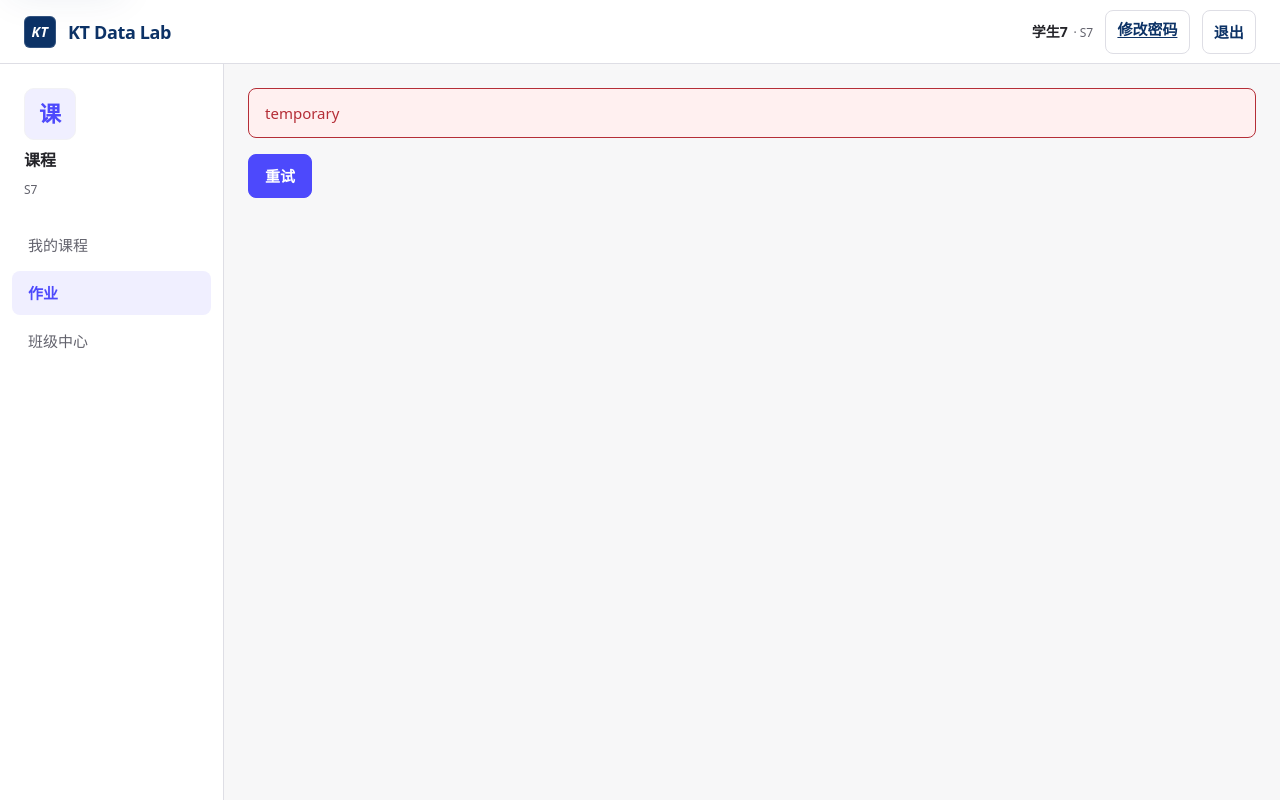
Test: student course shared loading › allows retry after failure and explicit refresh without retaining actions
Click the button "重试" at [280, 176], box x1=248 y1=154 x2=312 y2=198
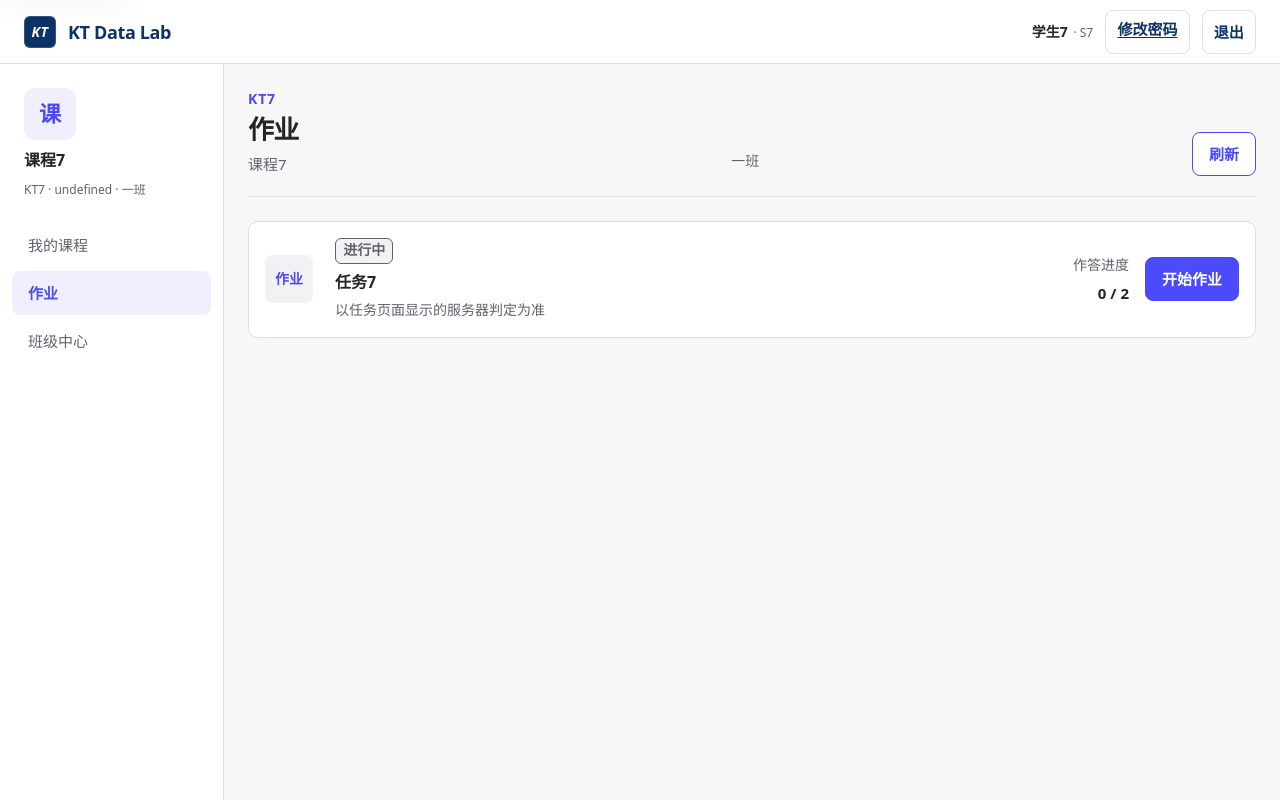
Now the text "任务7" is shown, box x1=335 y1=270 x2=376 y2=292
Click the button "刷新" at [1224, 154], box x1=1192 y1=132 x2=1256 y2=176
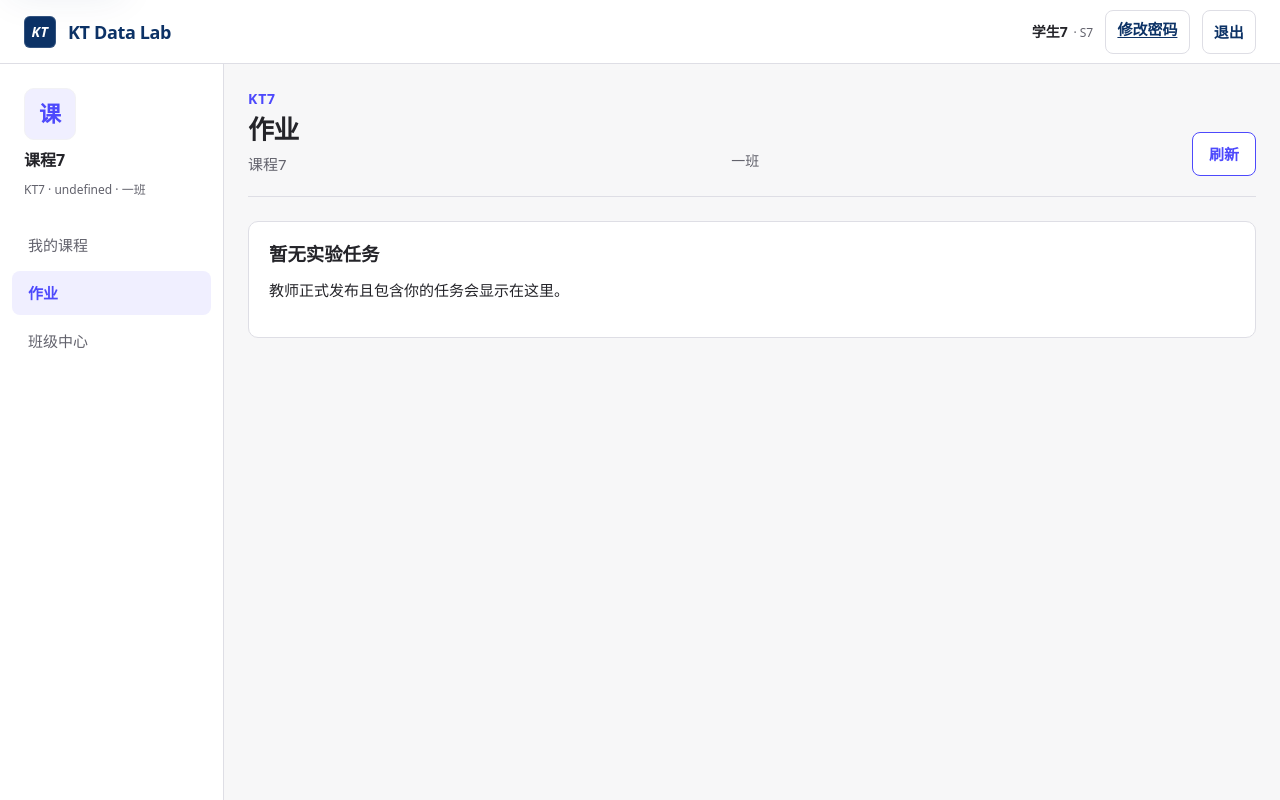
Now the text "任务7" is gone
